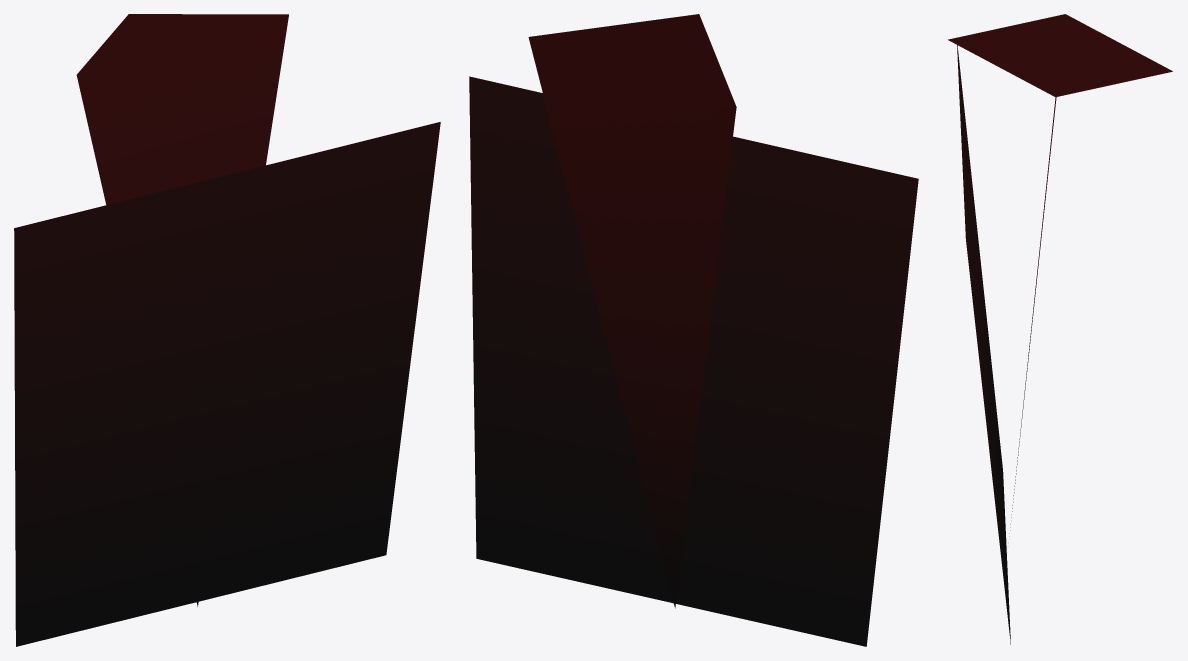
The model's file is TFD_Flowers_Patch_01D_02.fbx.
3 renders of one model, left to right at view 1: azimuth 30°, elevation 25°; view 2: azimuth 150°, elevation 25°; view 3: azimuth 270°, elevation 25°, orthographic. The views are drawn at different scales.
Parts seen in each view (by area): view 1: TFD_Flowers_Patch_01D_LOD2; view 2: TFD_Flowers_Patch_01D_LOD2; view 3: TFD_Flowers_Patch_01D_LOD2.
Part boxes in pixels (x1,y1,x2,y2): TFD_Flowers_Patch_01D_LOD2: [14, 14, 440, 646]; TFD_Flowers_Patch_01D_LOD2: [469, 14, 918, 646]; TFD_Flowers_Patch_01D_LOD2: [948, 14, 1172, 644].
Size of the model in its own units: 78.88 by 96.57 by 37.64.
